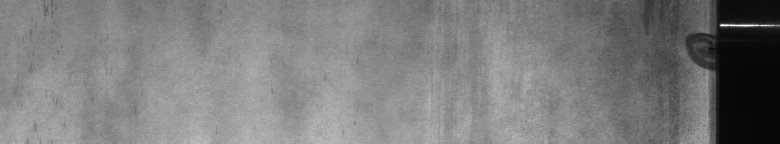hb: (680, 28, 704, 72)
